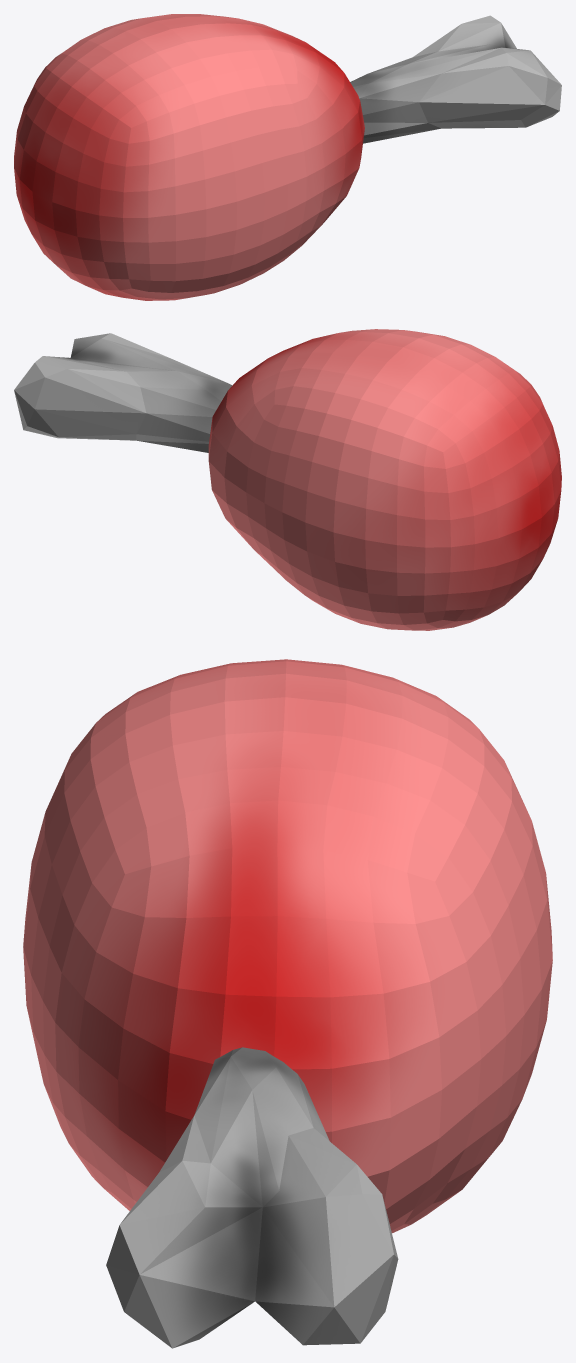
File: eat_chicken.fbx
3 renders of one model, top to bottom at view 1: azimuth 30°, elevation 25°; view 2: azimuth 150°, elevation 25°; view 3: azimuth 270°, elevation 25°, orthographic. The views are drawn at different scales.
Parts seen in each view (by area): view 1: eat_chicken; view 2: eat_chicken; view 3: eat_chicken.
Part boxes in pixels (left/top/right/bottom): eat_chicken: left=14, top=14, right=561, bottom=300; eat_chicken: left=14, top=329, right=561, bottom=630; eat_chicken: left=23, top=659, right=552, bottom=1348.
Size of the model in its own units: 163 by 79.52 by 74.53.
